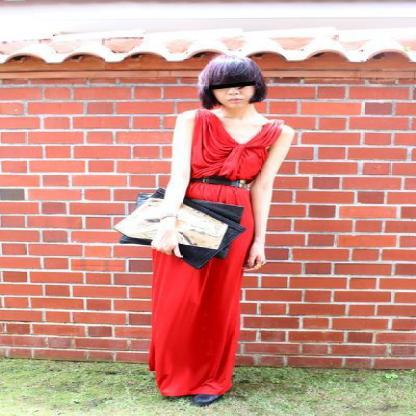bag: (116, 188, 244, 268)
dress: (137, 114, 280, 395)
shoe: (187, 394, 224, 406)
